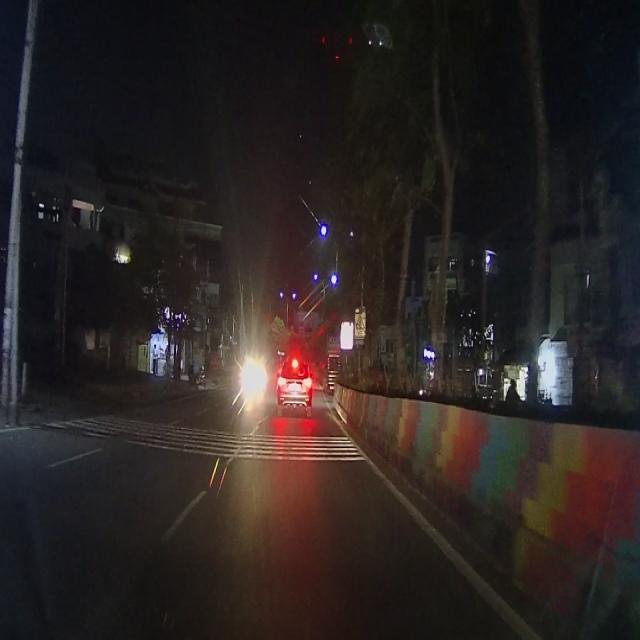gap-in-median: (354, 312, 366, 336)
